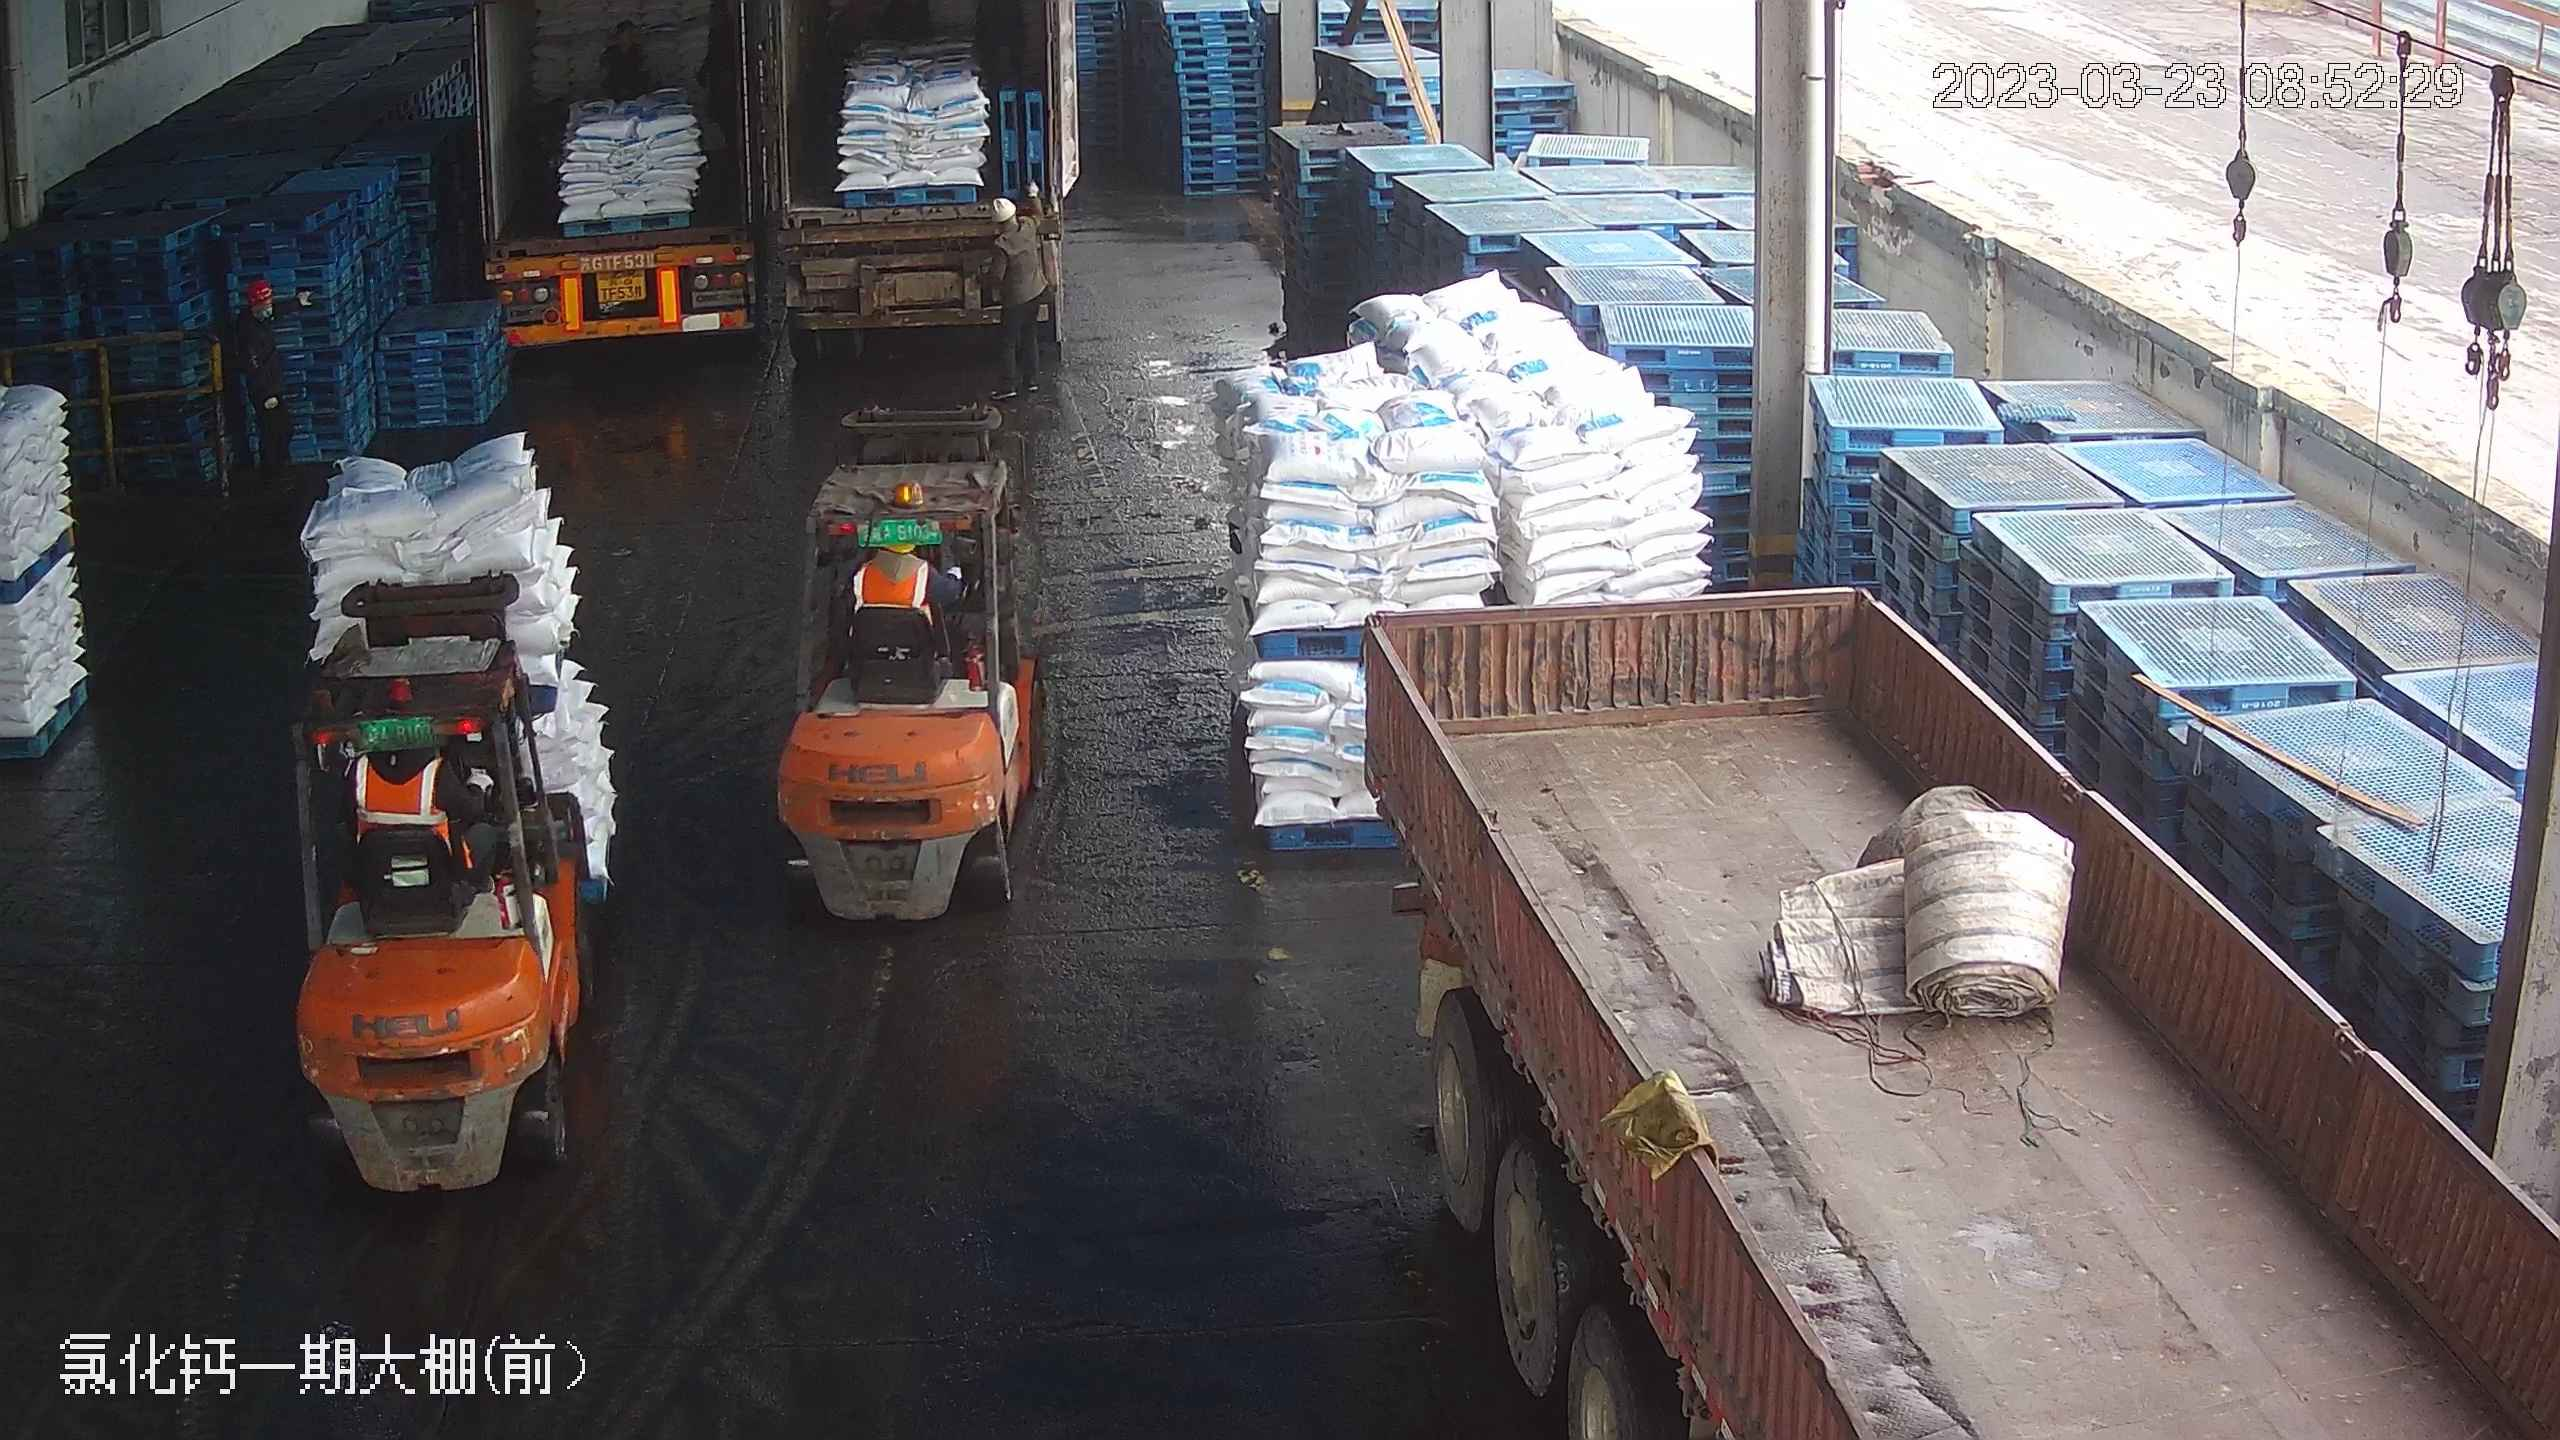head: (225, 277, 282, 339), (596, 19, 652, 79)
helmet: (240, 276, 274, 303)
people: (216, 269, 288, 481)
truck: (1239, 330, 2548, 1440), (463, 4, 784, 348), (758, 1, 1082, 328)
